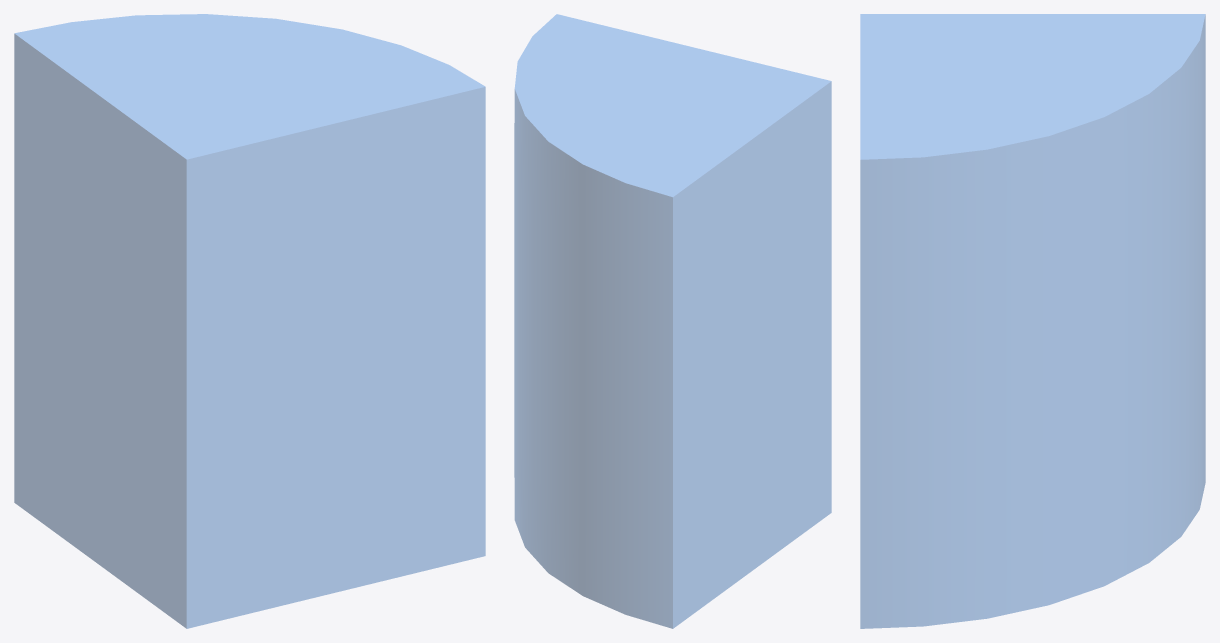
The model's file is quarter-round.glb.
3 views of the same model, side by side, from view 1: azimuth 30°, elevation 25°; view 2: azimuth 150°, elevation 25°; view 3: azimuth 270°, elevation 25° (orthographic). The views are drawn at different scales.
Visible parts, largest first — view 1: Round; view 2: Round; view 3: Round.
Part boxes in pixels (x1,y1,x2,y2): Round: (14, 14, 485, 628); Round: (514, 14, 831, 628); Round: (860, 14, 1205, 628).
Bounding box in the file's own units: 0.002 × 0.003 × 0.002.
